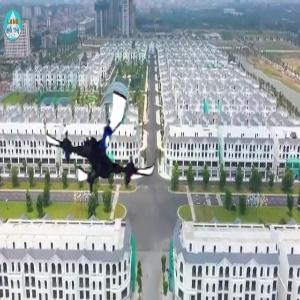drone: (40, 80, 164, 204)
